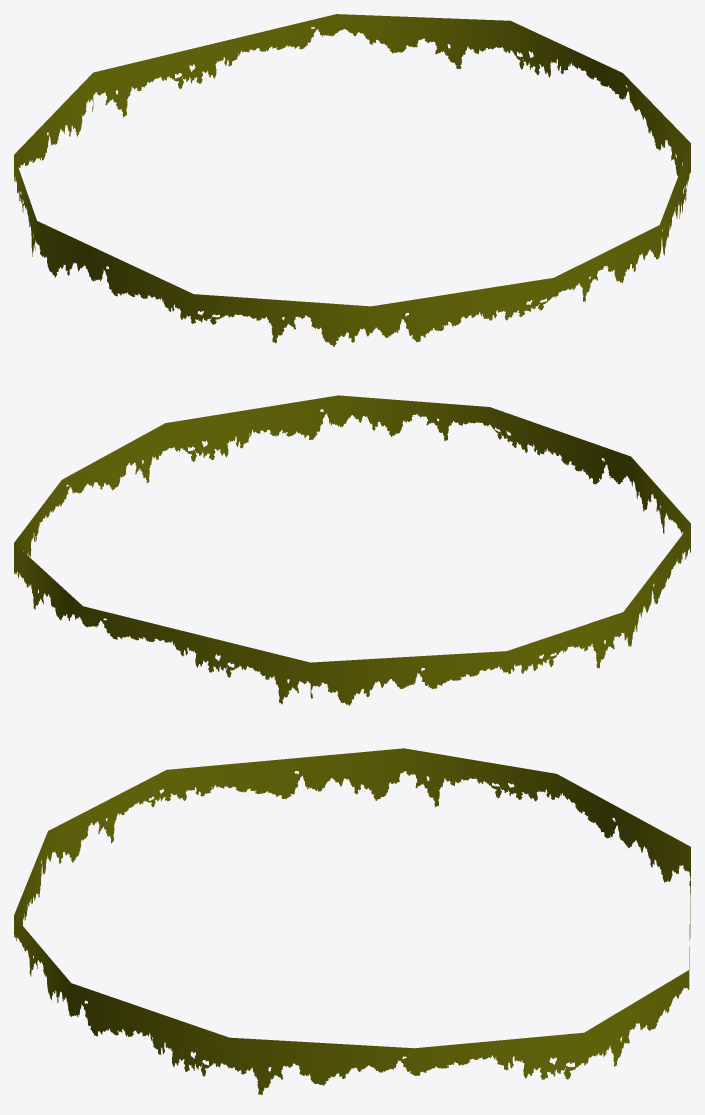
Rendered from grassTopFringe_B.fbx.
The picture shows the model from 3 angles, top to bottom: view 1: azimuth 30°, elevation 25°; view 2: azimuth 150°, elevation 25°; view 3: azimuth 270°, elevation 25°; orthographic projection. The views are drawn at different scales.
Parts seen in each view (by area): view 1: grassTopFringe_B; view 2: grassTopFringe_B; view 3: grassTopFringe_B.
Part boxes in pixels (box(x1,y1,x2,y2)): grassTopFringe_B: box(14, 14, 690, 346); grassTopFringe_B: box(14, 395, 690, 705); grassTopFringe_B: box(14, 748, 690, 1094).
Size of the model in its own units: 1618 by 158 by 1543.
